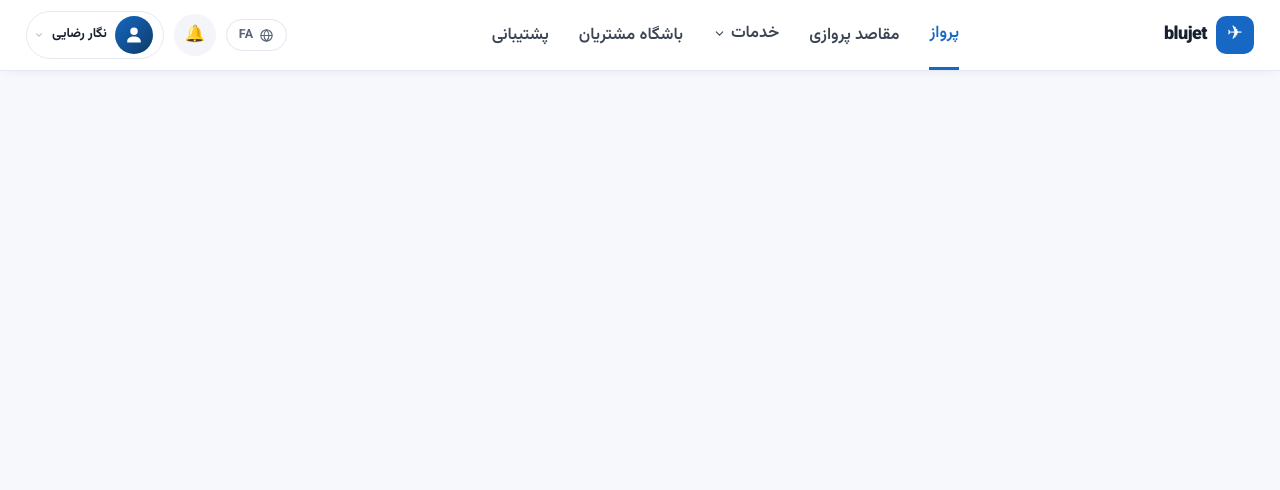
it: PublicHeader — logged-in user › shows the wallet balance and profile/trips links in the user menu
Click the element with test id "public-user-menu-toggle": coordinates (95, 35) [26, 11, 164, 59]
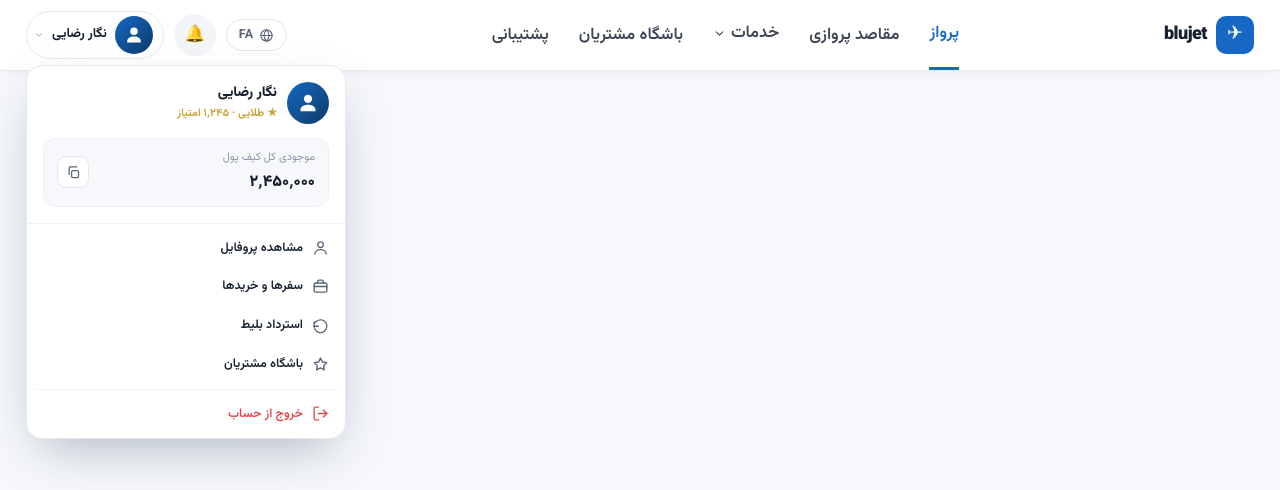
Result: the text with test id "public-user-wallet-balance" reads "۲٬۴۵۰٬۰۰۰" at [250, 170, 315, 194]
Result: the text "موجودی کل کیف پول" is shown at [223, 150, 315, 166]
